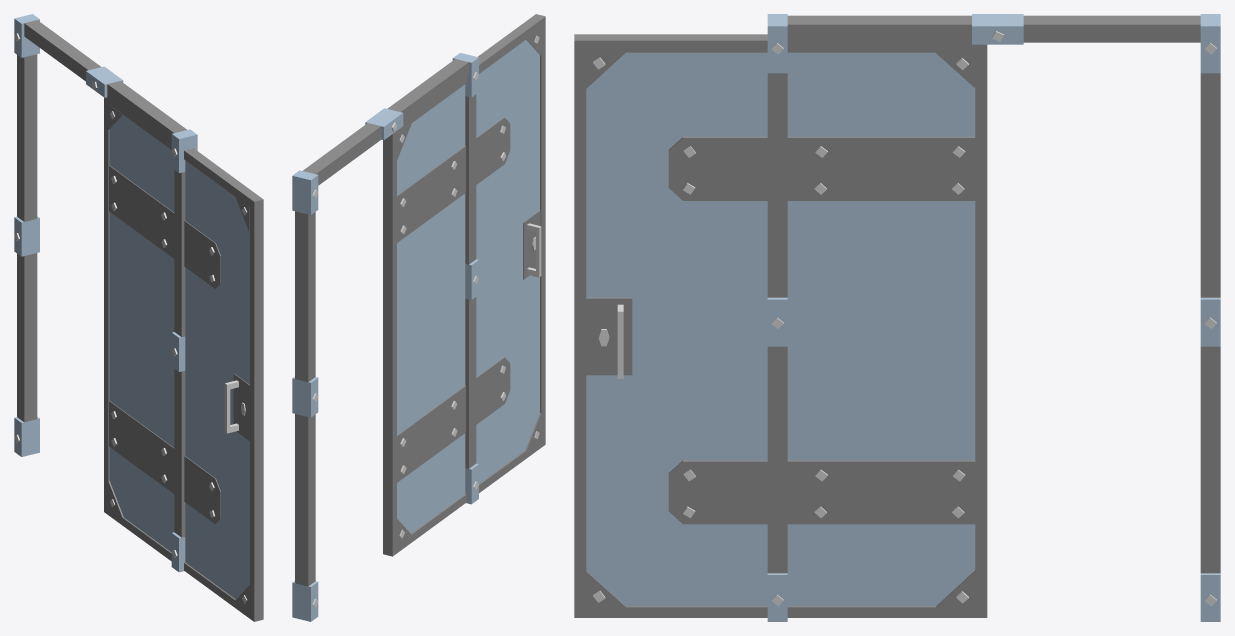
The model's file is DoorArmored1.fbx.
The picture shows the model from 3 angles, left to right: view 1: azimuth 30°, elevation 25°; view 2: azimuth 150°, elevation 25°; view 3: azimuth 270°, elevation 25°; orthographic projection. The views are drawn at different scales.
Parts seen in each view (by area): view 1: DoodArmored1, DoorArmoredFrame1; view 2: DoodArmored1, DoorArmoredFrame1; view 3: DoodArmored1, DoorArmoredFrame1.
Boxes of the visible parts, x1=… form: DoodArmored1: x1=104, y1=97, x2=263, y2=621; DoorArmoredFrame1: x1=14, y1=14, x2=197, y2=572; DoodArmored1: x1=383, y1=14, x2=545, y2=556; DoorArmoredFrame1: x1=292, y1=53, x2=478, y2=621; DoodArmored1: x1=574, y1=34, x2=987, y2=617; DoorArmoredFrame1: x1=767, y1=14, x2=1220, y2=621.
Bounding box in the file's own units: 35.41 × 452 × 445.
